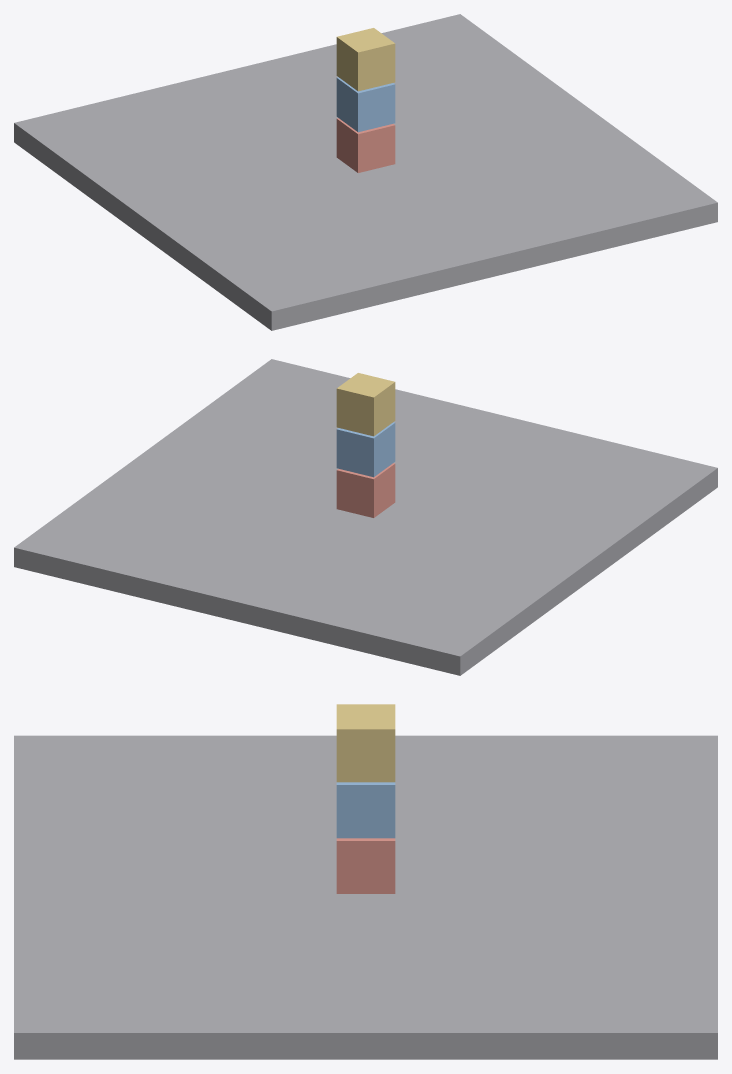
Rendered from StackDemo.gltf.
3 renders of one model, top to bottom at view 1: azimuth 30°, elevation 25°; view 2: azimuth 150°, elevation 25°; view 3: azimuth 270°, elevation 25°, orthographic. The views are drawn at different scales.
Visible parts, largest first — view 1: Floor, Box2, Box1, Box0; view 2: Floor, Box2, Box1, Box0; view 3: Floor, Box2, Box1, Box0.
Part boxes in pixels (box(x1,y1,x2,y2)): Floor: box(14, 14, 717, 330); Box2: box(336, 28, 395, 91); Box1: box(336, 77, 395, 132); Box0: box(336, 118, 395, 172); Floor: box(14, 359, 717, 675); Box2: box(336, 373, 395, 436); Box1: box(336, 422, 395, 477); Box0: box(336, 463, 395, 517); Floor: box(14, 735, 717, 1059); Box2: box(336, 704, 395, 782); Box1: box(336, 782, 395, 838); Box0: box(336, 838, 395, 893).
Size of the model in its own units: 12 by 3.65 by 12.
